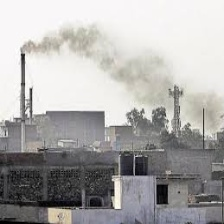smoke: (18, 27, 222, 126)
